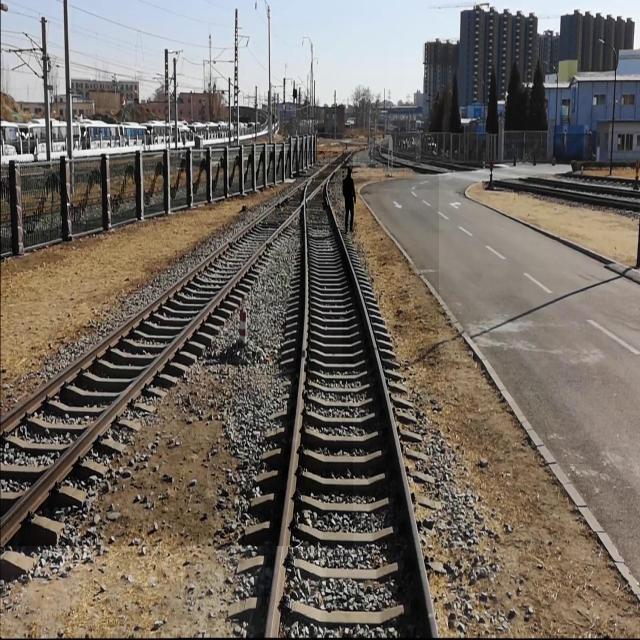rail: (1, 152, 354, 547), (1, 154, 343, 443), (327, 178, 440, 640), (266, 180, 313, 639)
